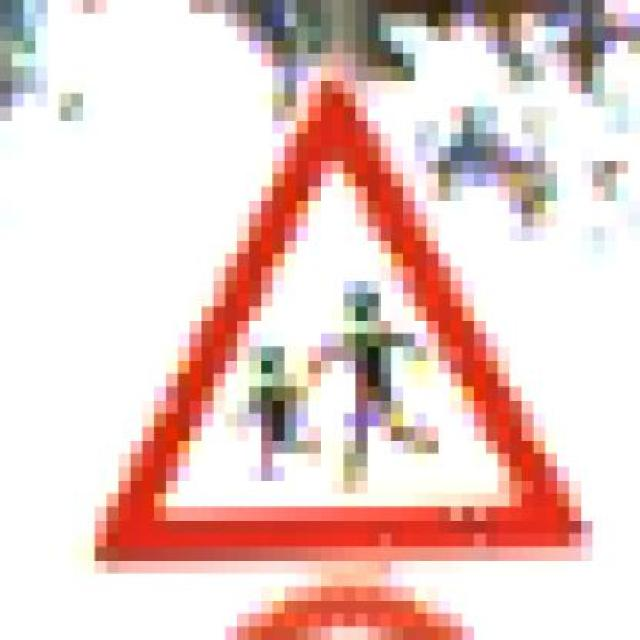Beware of children: (71, 53, 617, 573)
